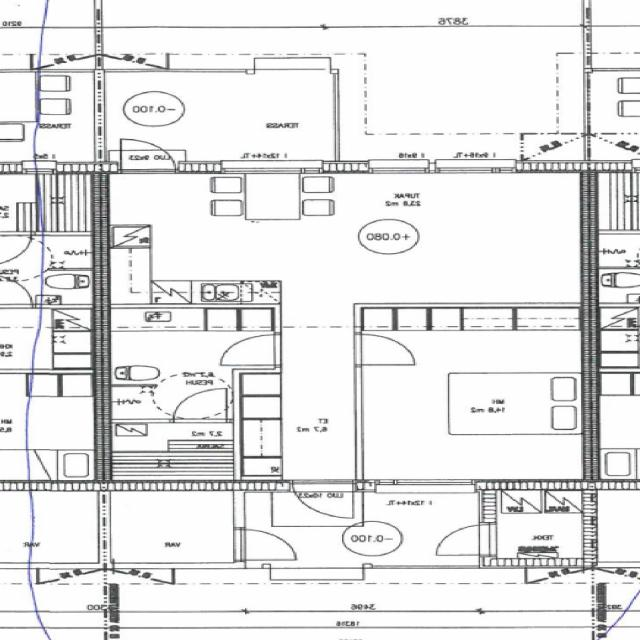door: (292, 480, 353, 526), (121, 130, 174, 172), (425, 525, 497, 555), (233, 529, 297, 560), (355, 334, 417, 365), (220, 335, 282, 365), (172, 388, 225, 422)
